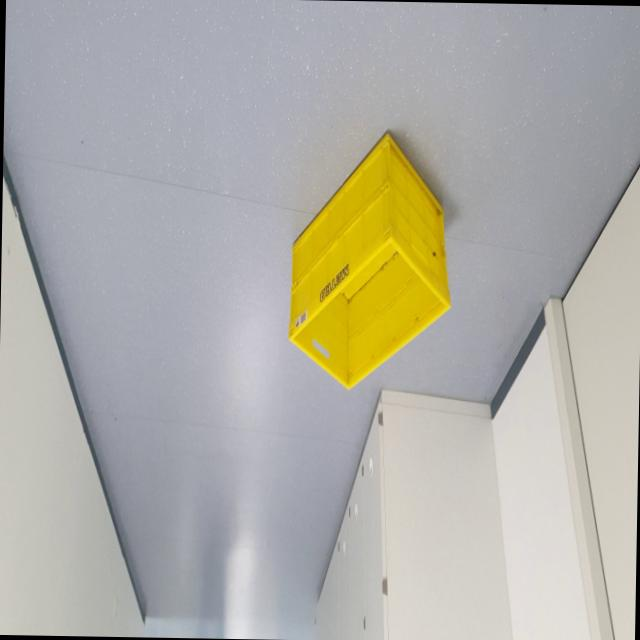box: (267, 94, 466, 406)
